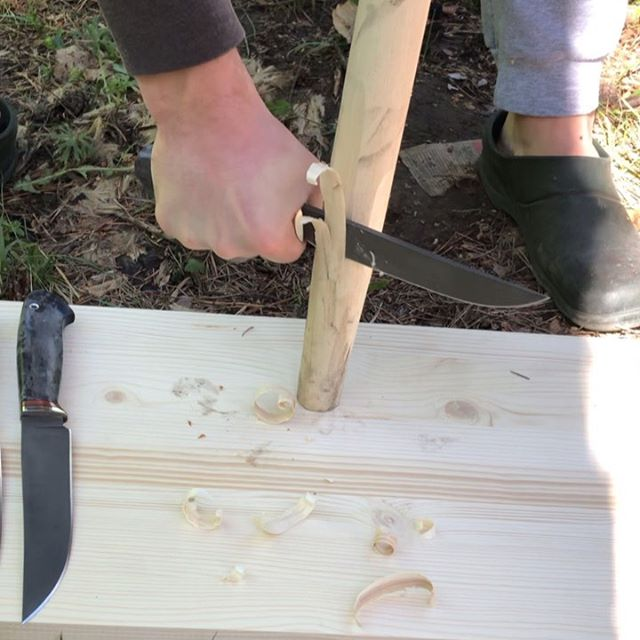knife: (134, 150, 550, 310), (20, 290, 75, 623)
